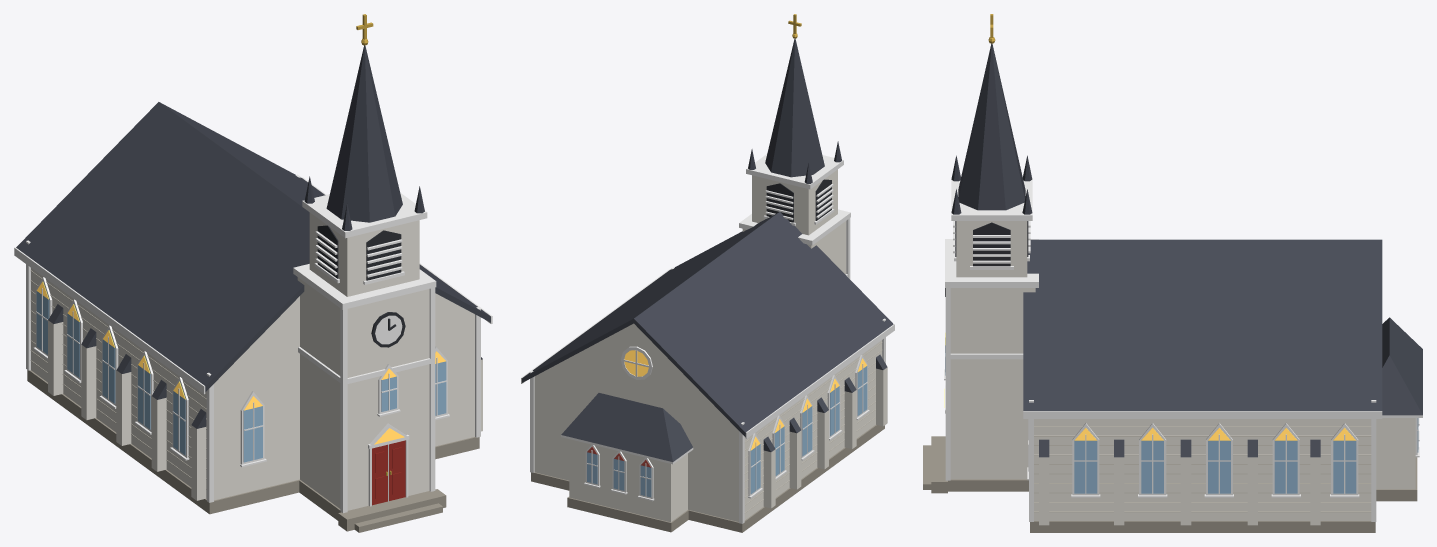
The model's file is bld_church.glb.
3 renders of one model, left to right at view 1: azimuth 30°, elevation 25°; view 2: azimuth 150°, elevation 25°; view 3: azimuth 270°, elevation 25°, orthographic. The views are drawn at different scales.
Parts seen in each view (by area): view 1: bld_church; view 2: bld_church; view 3: bld_church.
Boxes of the visible parts, x1,y1,x2,y2 form: bld_church: (14, 14, 492, 532); bld_church: (521, 14, 894, 532); bld_church: (923, 14, 1422, 532).
Size of the model in its own units: 15.12 by 24.1 by 23.95.
